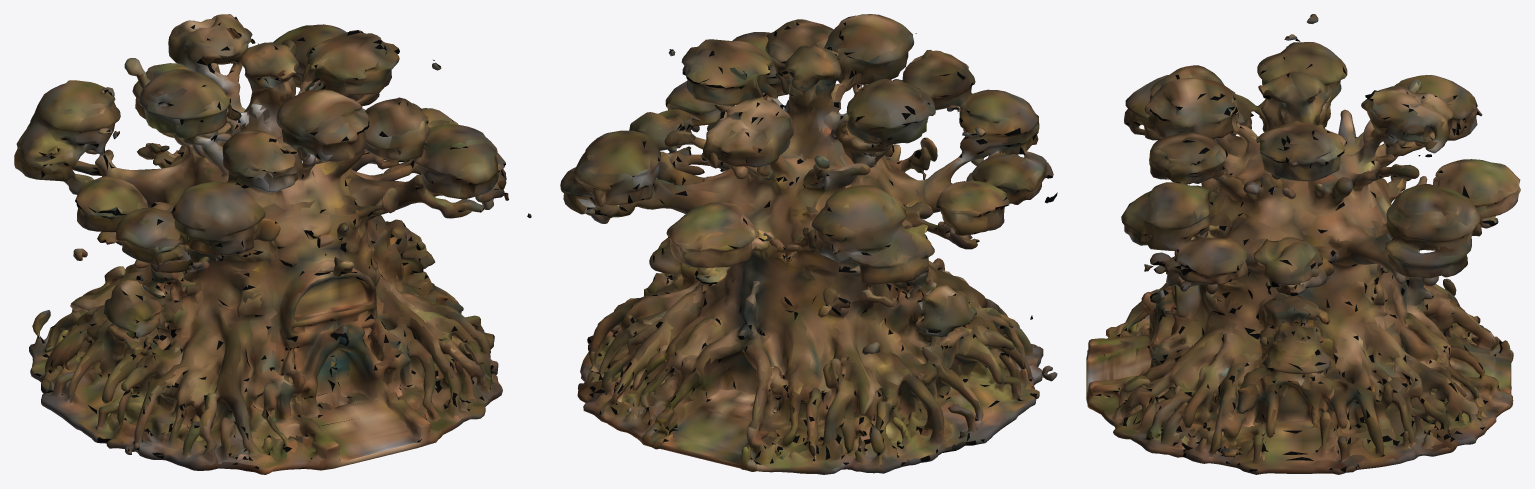
The model's file is review-building-elephant-f5784a3ebdd6.glb.
3 views of the same model, side by side, from view 1: azimuth 30°, elevation 25°; view 2: azimuth 150°, elevation 25°; view 3: azimuth 270°, elevation 25° (orthographic). The views are drawn at different scales.
Visible parts, largest first — view 1: elephant | building material review; view 2: elephant | building material review; view 3: elephant | building material review.
Boxes of the visible parts, <box> form: elephant | building material review: <box>14,14,531,474</box>; elephant | building material review: <box>560,14,1057,474</box>; elephant | building material review: <box>1086,14,1520,474</box>.
Bounding box in the file's own units: 30.68 × 24 × 30.33.
Materials: 2 (1 with a texture image).
